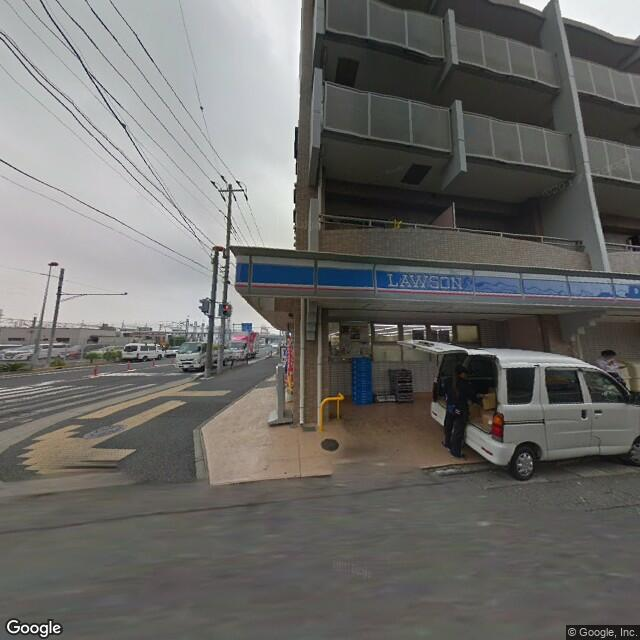lawson: (230, 249, 640, 313)
